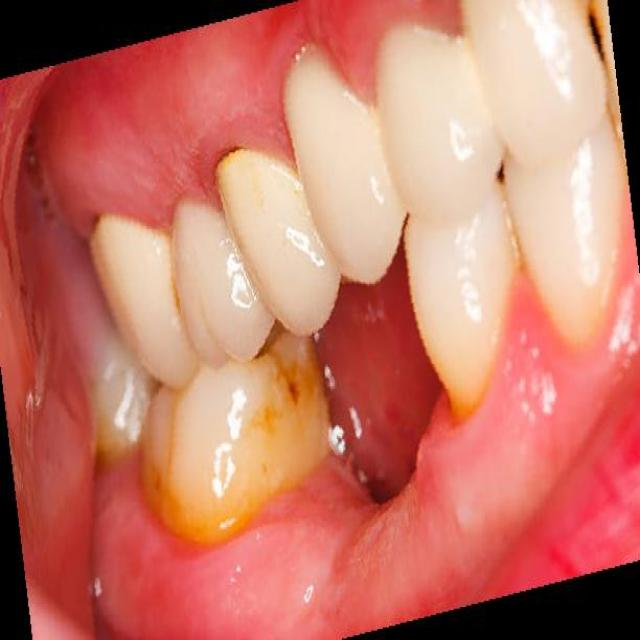caries: (573, 0, 613, 100)
